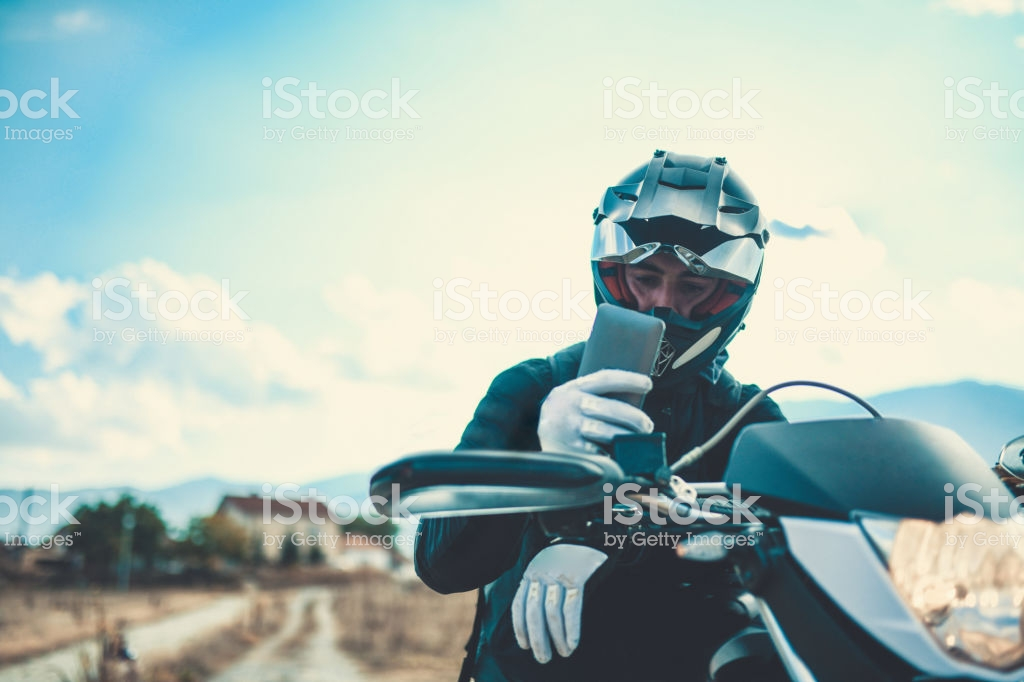helmet: (591, 164, 761, 395)
